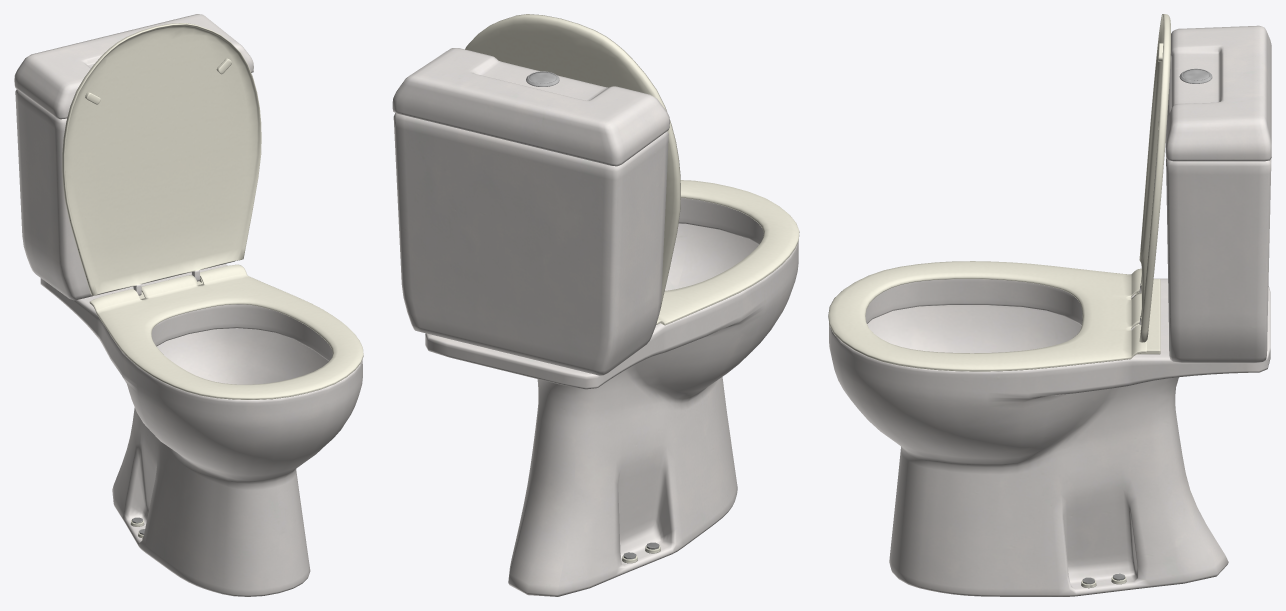
Rendered from toilet.glb.
3 renders of one model, left to right at view 1: azimuth 30°, elevation 25°; view 2: azimuth 150°, elevation 25°; view 3: azimuth 270°, elevation 25°, orthographic. The views are drawn at different scales.
Parts seen in each view (by area): view 1: 10778_Toilet_V2; view 2: 10778_Toilet_V2; view 3: 10778_Toilet_V2.
Part boxes in pixels (x1=…): 10778_Toilet_V2: x1=14, y1=14, x2=363, y2=596; 10778_Toilet_V2: x1=392, y1=14, x2=799, y2=596; 10778_Toilet_V2: x1=828, y1=14, x2=1271, y2=596.
Bounding box in the file's own units: 1.75 × 4.04 × 3.02.
Materials: 1 (1 with a texture image).
